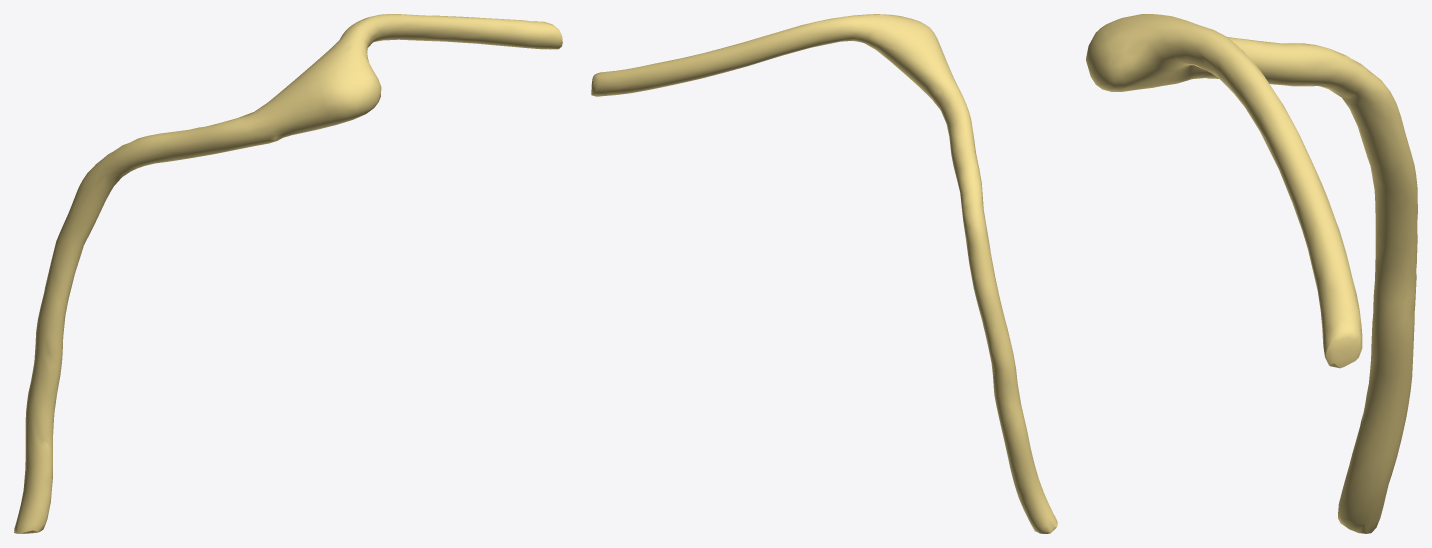
The model's file is fma65421_mm1025m.glb.
3 renders of one model, left to right at view 1: azimuth 30°, elevation 25°; view 2: azimuth 150°, elevation 25°; view 3: azimuth 270°, elevation 25°, orthographic. The views are drawn at different scales.
Parts seen in each view (by area): view 1: FMA65421_MM1025M; view 2: FMA65421_MM1025M; view 3: FMA65421_MM1025M.
Boxes of the visible parts, <box> form: FMA65421_MM1025M: <box>14,14,562,533</box>; FMA65421_MM1025M: <box>591,14,1057,533</box>; FMA65421_MM1025M: <box>1086,14,1417,533</box>.
Size of the model in its own units: 0.0227 by 0.0194 by 0.0084.
